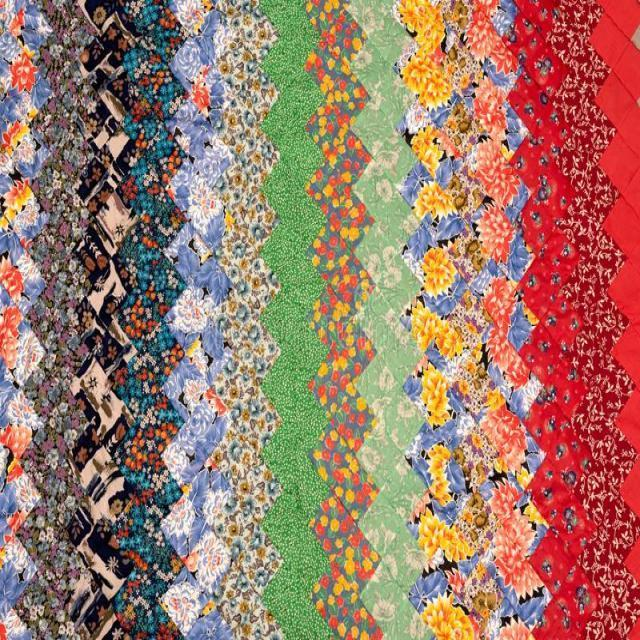clothes: (21, 34, 629, 636)
